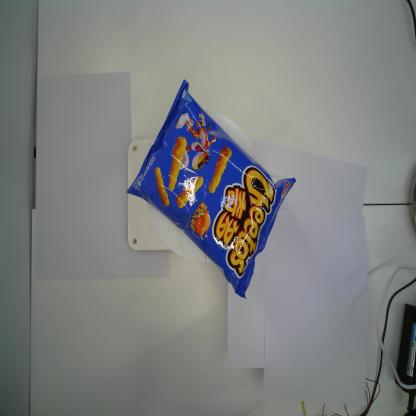Puffed Food: (126, 76, 297, 301)
